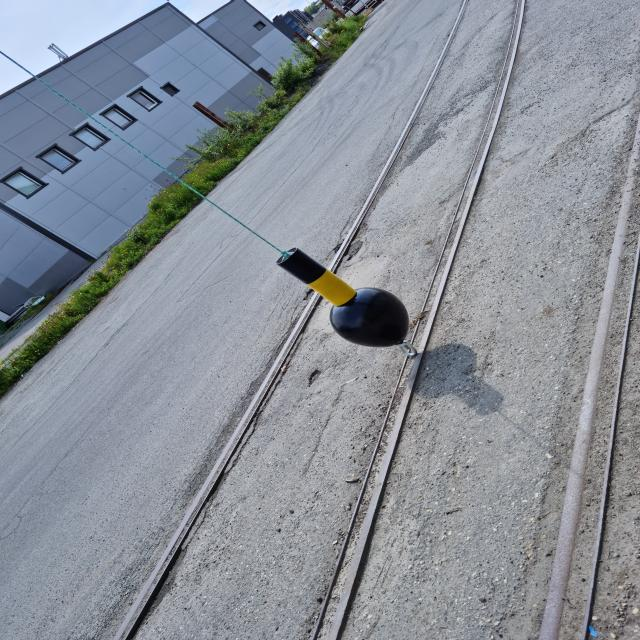east: (276, 248, 408, 347)
